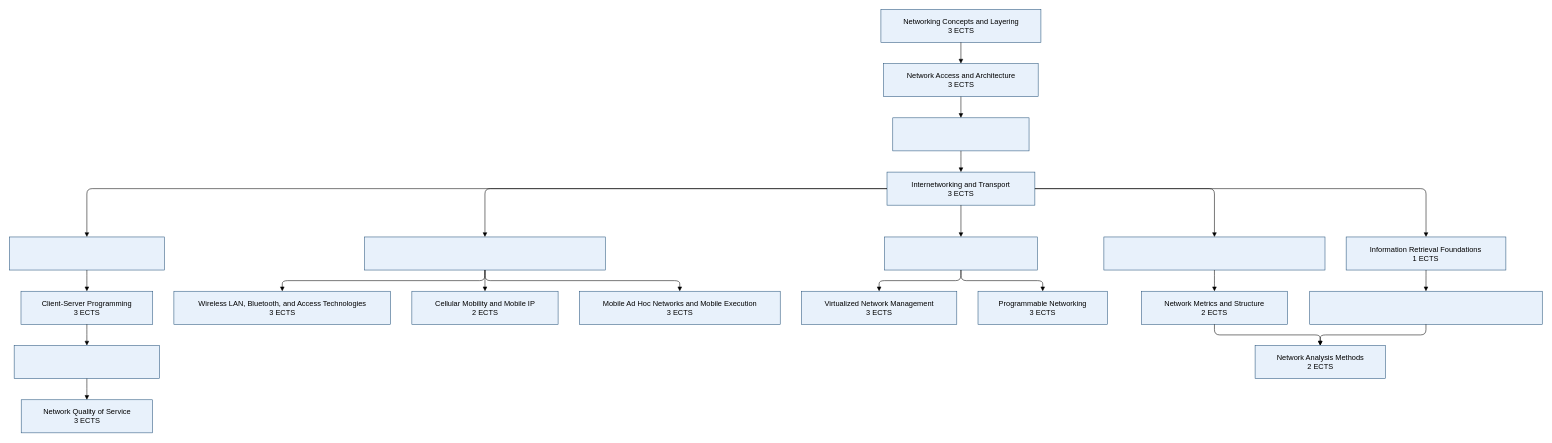
This 1552x443 diagram has some shape labels left out. The centre of each missing label's shape, as x and y in pixels:
Internet Application Foundations 4 ECTS: the point at 86,253
IP Networks and Addressing 3 ECTS: the point at 960,134
Network Operations Foundations 4 ECTS: the point at 960,253
Network Service Architectures 3 ECTS: the point at 87,362
Social Networks and Network Analysis Foundations 3 ECTS: the point at 1214,253
Web Information Retrieval and Recommender Systems 2 ECTS: the point at 1425,307
Wireless Networking Foundations and Radio Engineering 2 ECTS: the point at 484,253
